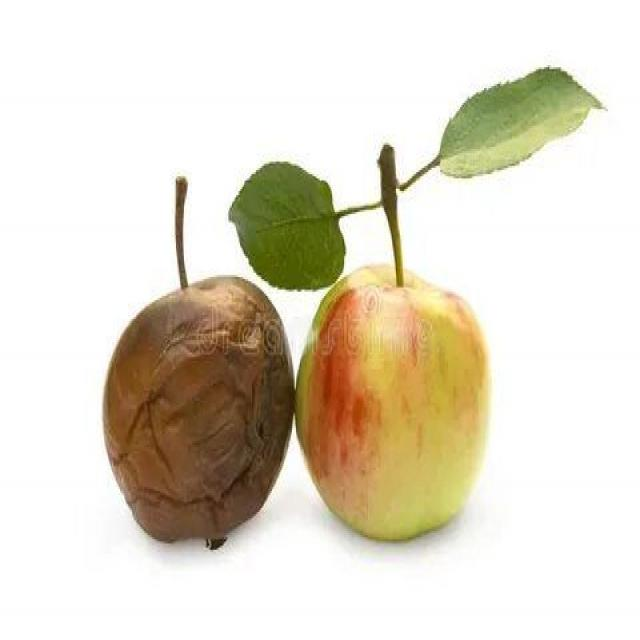fresh_apple: (299, 262, 490, 540)
rotten_apple: (105, 277, 298, 539)
